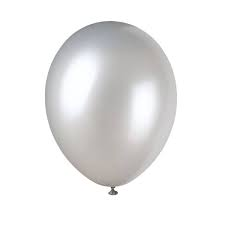Balloon: (45, 21, 176, 186)
